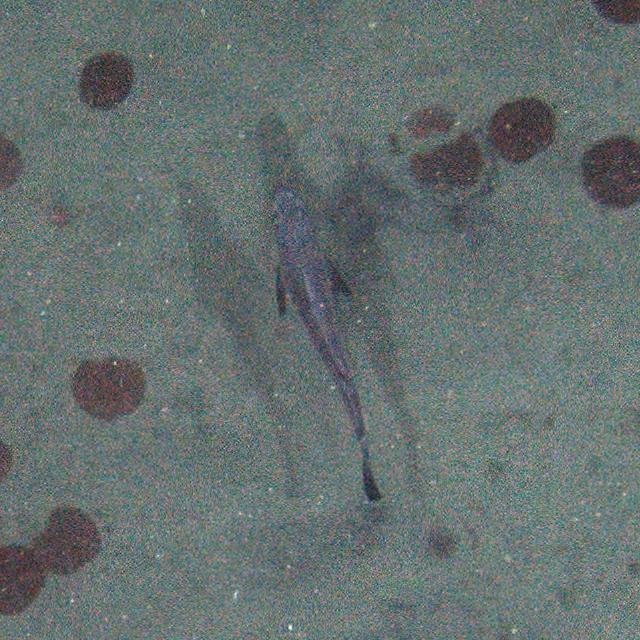roundfish: (267, 188, 392, 510)
